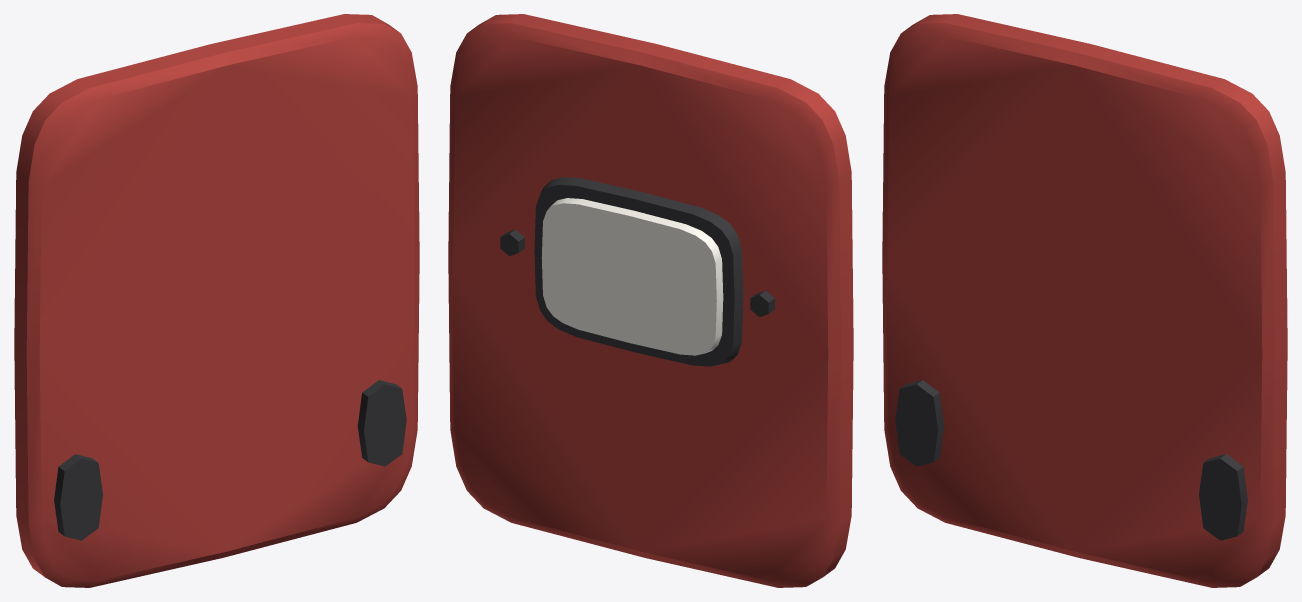
File: plate.glb
3 renders of one model, left to right at view 1: azimuth 30°, elevation 25°; view 2: azimuth 150°, elevation 25°; view 3: azimuth 330°, elevation 25°, orthographic.
Parts seen in each view (by area): view 1: lod0; view 2: lod0; view 3: lod0.
Boxes of the visible parts, <box> form: lod0: <box>14,14,419,587</box>; lod0: <box>448,14,853,587</box>; lod0: <box>882,14,1287,587</box>.
Size of what is drawn, in the model's own units: 0.22 by 0.27 by 0.037.
